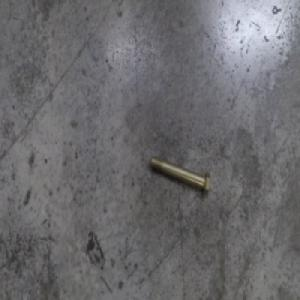Bolt: (149, 152, 211, 196)
